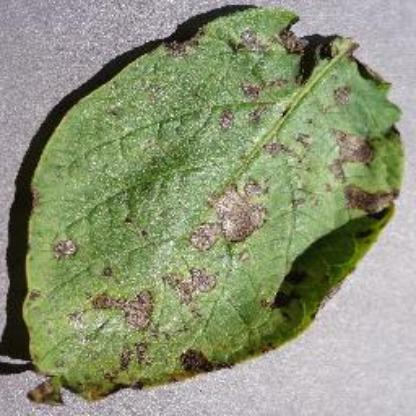Early-Blight: (18, 5, 413, 406)
